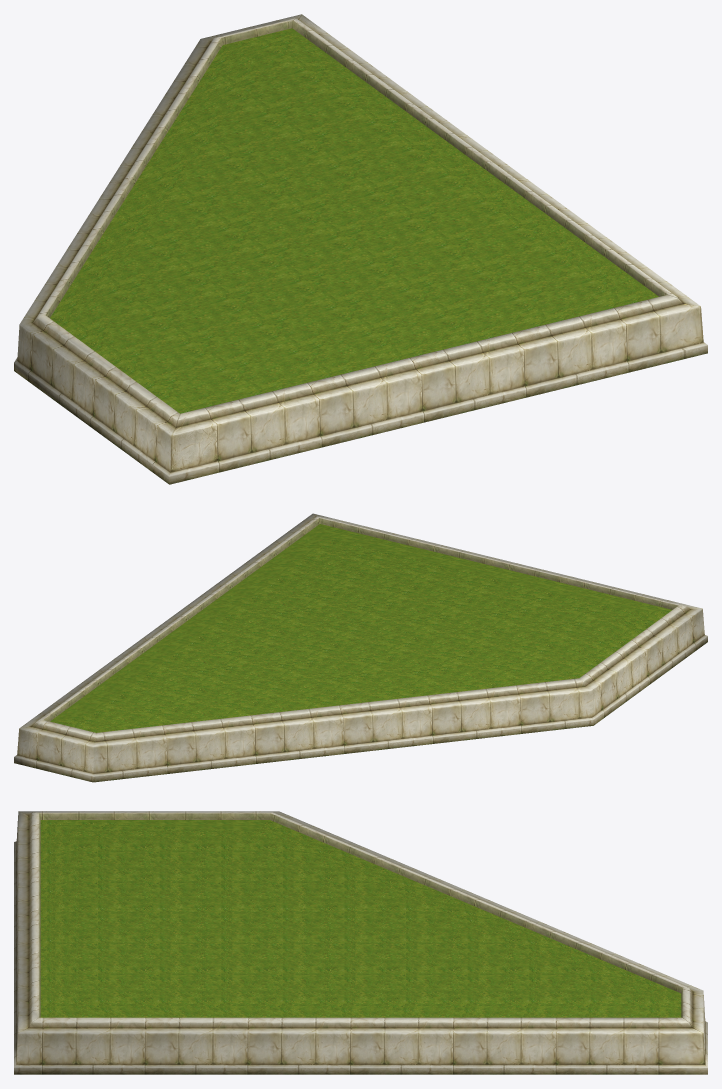
Rendered from a_SWTpart03.glb.
3 views of the same model, one above another, from view 1: azimuth 30°, elevation 25°; view 2: azimuth 150°, elevation 25°; view 3: azimuth 270°, elevation 25° (orthographic). The views are drawn at different scales.
Visible parts, largest first — view 1: a_SWTpart03; view 2: a_SWTpart03; view 3: a_SWTpart03.
Boxes of the visible parts, bbox=[...] form: a_SWTpart03: bbox=[14, 14, 707, 484]; a_SWTpart03: bbox=[14, 513, 707, 782]; a_SWTpart03: bbox=[14, 811, 707, 1074].
Bounding box in the file's own units: 10 × 0.9592 × 13.
Materials: 3 (3 with a texture image).
